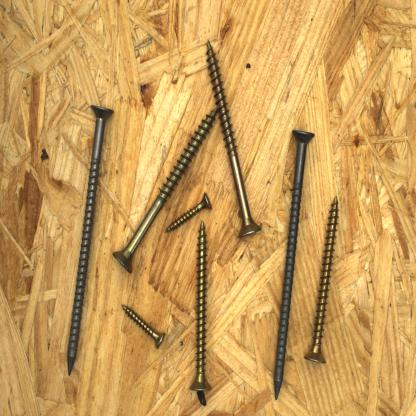screw: (112, 103, 221, 280), (64, 101, 117, 380), (271, 127, 317, 403), (204, 36, 263, 240), (302, 194, 341, 366), (187, 219, 215, 394), (120, 300, 169, 350), (163, 189, 214, 236)
